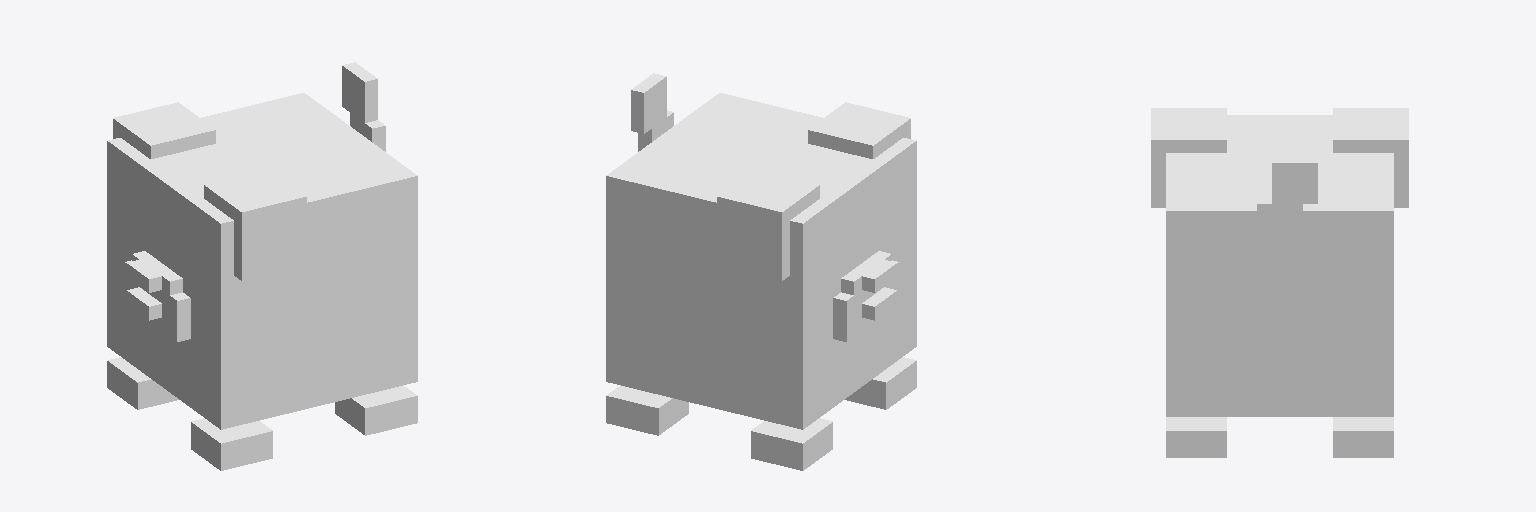
The model's file is dot_sep.obj.
3 views of the same model, side by side, from view 1: azimuth 30°, elevation 25°; view 2: azimuth 150°, elevation 25°; view 3: azimuth 270°, elevation 25° (orthographic).
Visible parts, largest first — view 1: dot_sep; view 2: dot_sep; view 3: dot_sep.
Part boxes in pixels (left/top/right/bottom): dot_sep: left=107, top=62, right=417, bottom=470; dot_sep: left=606, top=73, right=916, bottom=470; dot_sep: left=1151, top=108, right=1408, bottom=457.
Size of the model in its own units: 18 by 22 by 17.